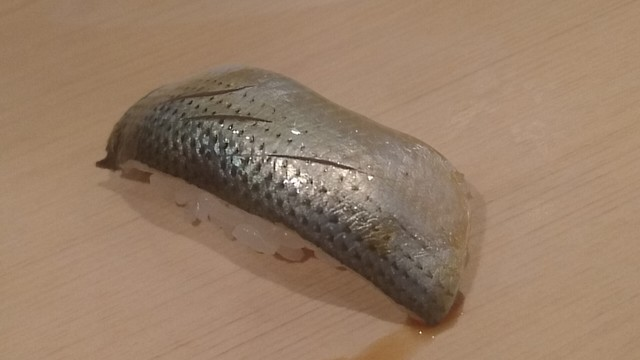spotted-shad: (95, 64, 473, 337)
